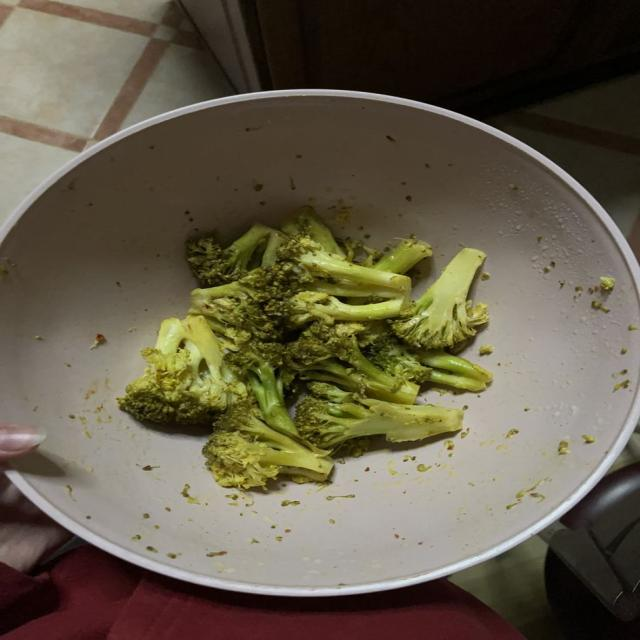broccoli: (118, 316, 246, 424), (279, 237, 410, 326), (203, 403, 333, 489), (287, 323, 419, 404), (393, 248, 488, 349), (359, 323, 492, 392), (296, 395, 462, 450), (189, 268, 287, 350), (226, 341, 297, 435), (187, 224, 278, 287), (359, 323, 431, 383), (281, 206, 345, 256), (416, 350, 492, 392), (354, 239, 432, 274), (374, 239, 432, 274), (600, 277, 615, 291)
